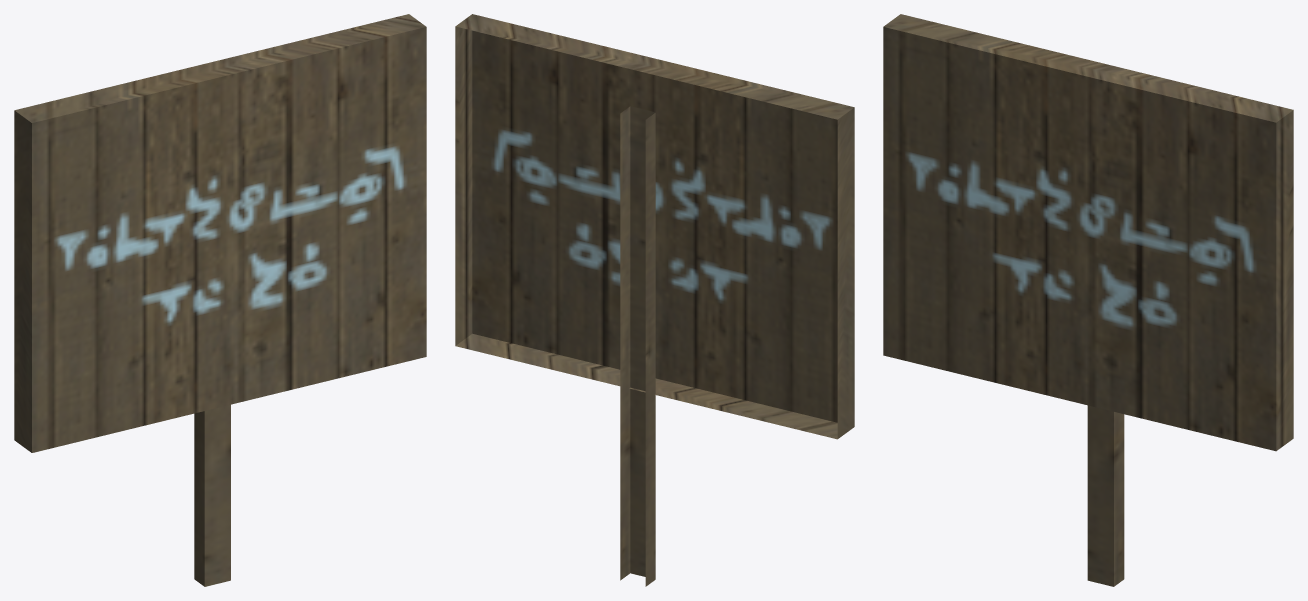
Rendered from Sign.fbx.
3 views of the same model, side by side, from view 1: azimuth 30°, elevation 25°; view 2: azimuth 150°, elevation 25°; view 3: azimuth 330°, elevation 25° (orthographic). The views are drawn at different scales.
Parts seen in each view (by area): view 1: pCube3; view 2: pCube3; view 3: pCube3.
Part boxes in pixels (x1,y1,x2,y2): pCube3: (14, 14, 426, 586); pCube3: (455, 14, 854, 586); pCube3: (883, 14, 1293, 586).
Size of the model in its own units: 8.72 by 11.01 by 1.02.
1 material, 1 textured.
